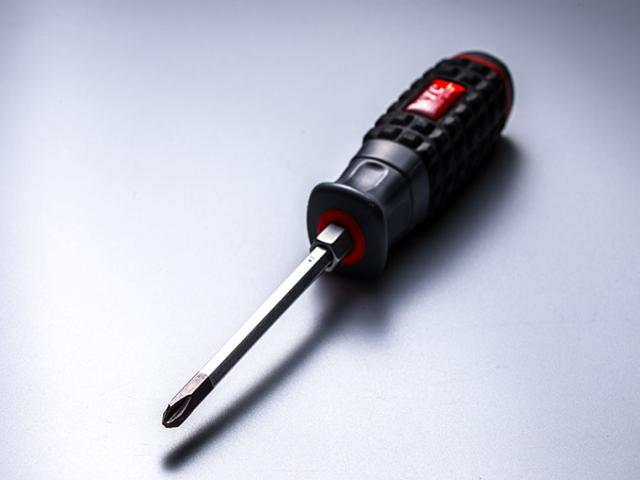Screwdriver: (162, 52, 514, 428)
